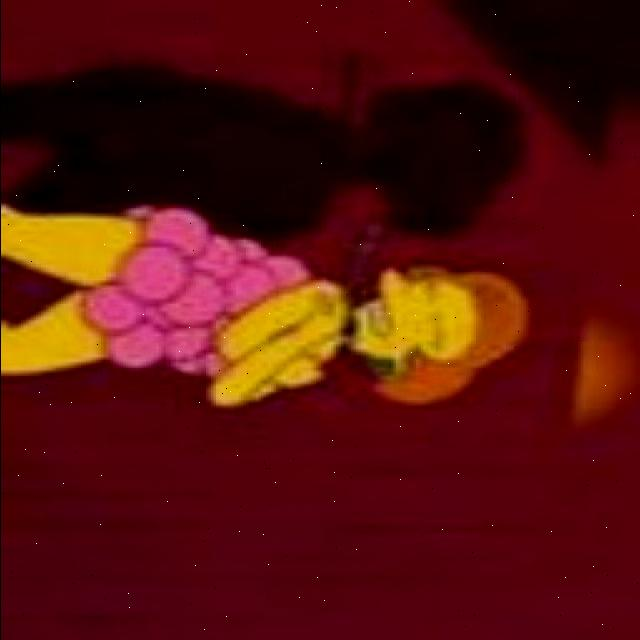Edna Krappel: (342, 264, 528, 402)
